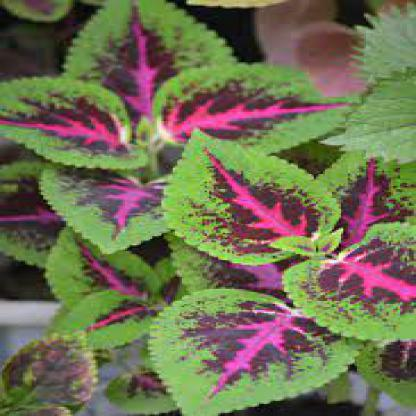Bunga Coleus: (26, 18, 383, 402)
